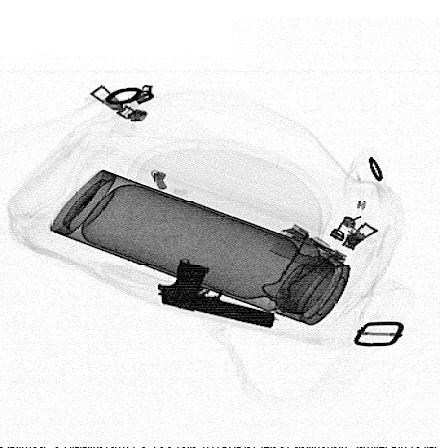Gun: (155, 259, 277, 331)
